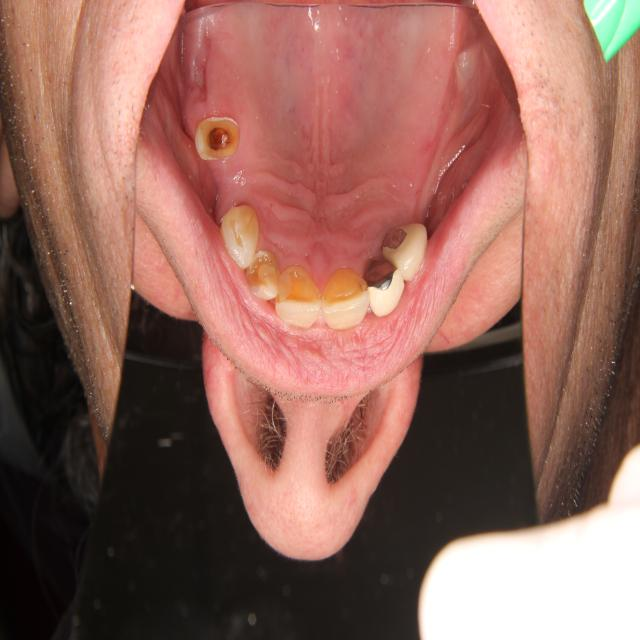tooth: (273, 247, 327, 337), (212, 192, 263, 272), (380, 209, 431, 288), (319, 258, 371, 334), (364, 246, 410, 325), (241, 243, 286, 314), (191, 107, 242, 169)
